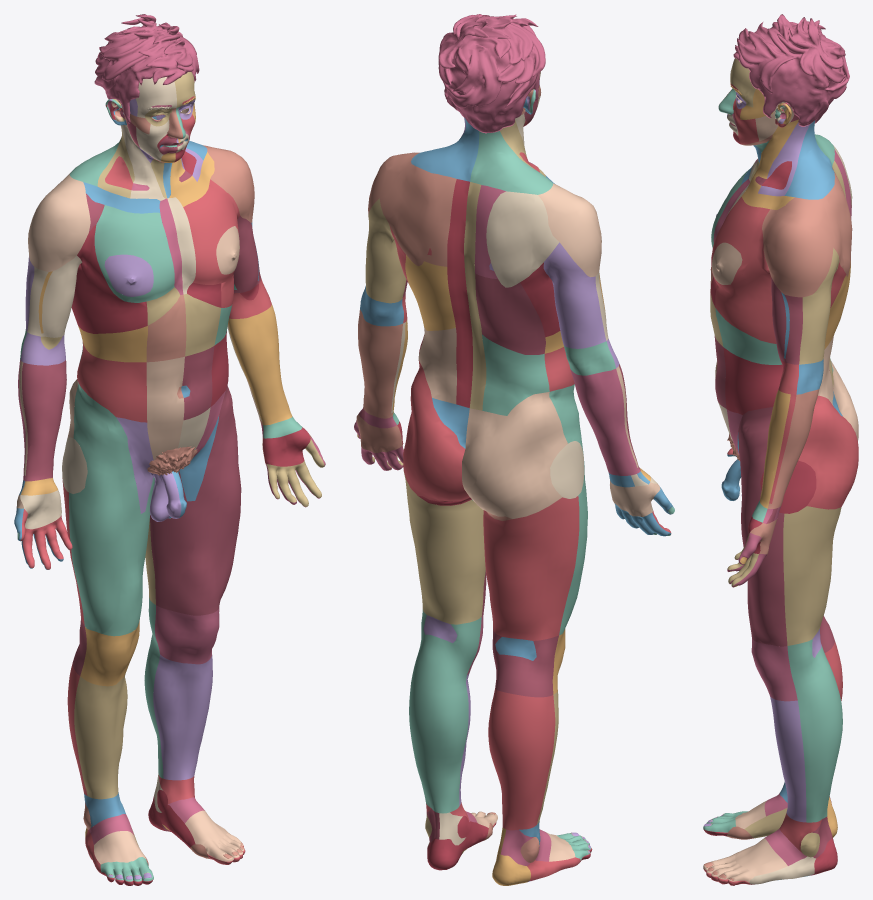
File: z-anatomy-body-regions.glb
3 views of the same model, side by side, from view 1: azimuth 30°, elevation 25°; view 2: azimuth 150°, elevation 25°; view 3: azimuth 270°, elevation 25° (orthographic). The views are drawn at different scales.
Visible parts, largest first — view 1: Anterior region of thighr, Anterior region of thighl, Hairs of head, Anterior region of legl, Anterior region of legr, Pectoral regionr, Deltoid regionr, Anterior region of forearml, Anterior region of forearmr, Lateral region of thoraxr, Lateral region of abdomenr, Pectoral regionl (+46 smaller); view 2: Posterior region of thighr, Hairs of head, Gluteal regionr, Posterior region of thighl, Posterior region of legr, Posterior region of legl, Gluteal regionl, Scapular regionr, Posterior region of armr, Infrascapular regionr, Scapular regionl, Posterior region of forearmr (+32 smaller); view 3: Hairs of head, Anterior region of thighl, Posterior region of thighl, Deltoid regionl, Gluteal regionl, Posterior region of legl, Lateral region of thoraxl, Anterior region of legl, Lateral region of abdomenl, Pectoral regionl, Posterior region of arml, Posterior region of neckl (+45 smaller).
Part boxes in pixels (x1,y1,x2,y2): Anterior region of thighr: (69,382,154,636); Anterior region of thighl: (150,383,241,615); Hairs of head: (94,14,199,123); Anterior region of legl: (153,654,212,780); Anterior region of legr: (74,674,127,799); Pectoral regionr: (94,205,174,302); Deltoid regionr: (28,174,90,271); Anterior region of forearml: (228,304,292,425); Anterior region of forearmr: (22,360,66,481); Lateral region of thoraxr: (71,225,147,333); Lateral region of abdomenr: (77,342,147,422); Pectoral regionl: (183,179,238,284); Posterior region of thighr: (483,496,579,640); Hairs of head: (438,14,545,133); Gluteal regionr: (462,392,567,518); Posterior region of thighl: (403,471,485,624); Posterior region of legr: (488,688,555,830); Posterior region of legl: (409,667,468,813); Gluteal regionl: (403,360,470,501); Scapular regionr: (486,191,559,287); Posterior region of armr: (543,242,606,348); Infrascapular regionr: (475,273,545,354); Scapular regionl: (379,164,436,266); Posterior region of forearmr: (570,368,640,475); Hairs of head: (733,14,849,126); Anterior region of thighl: (738,407,787,646); Posterior region of thighl: (783,506,841,645); Deltoid regionl: (763,197,834,297); Gluteal regionl: (798,395,858,509); Posterior region of legl: (798,679,842,822); Lateral region of thoraxl: (715,229,846,343); Anterior region of legl: (770,696,806,822); Lateral region of abdomenl: (723,347,782,414); Pectoral regionl: (711,197,769,291); Posterior region of arml: (799,248,839,364); Posterior region of neckl: (784,120,834,199).
Bounding box in the file's own units: 68.01 × 174 × 29.4.
